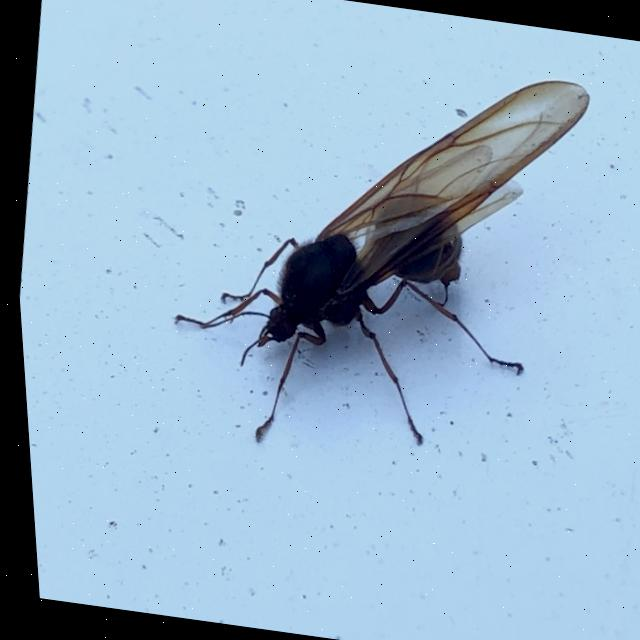Alive-Male-Alate: (139, 30, 610, 485)
